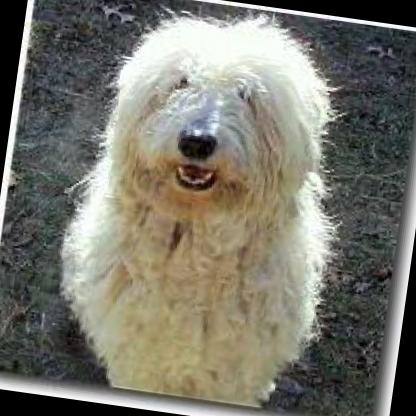komondor: (27, 0, 378, 416)
